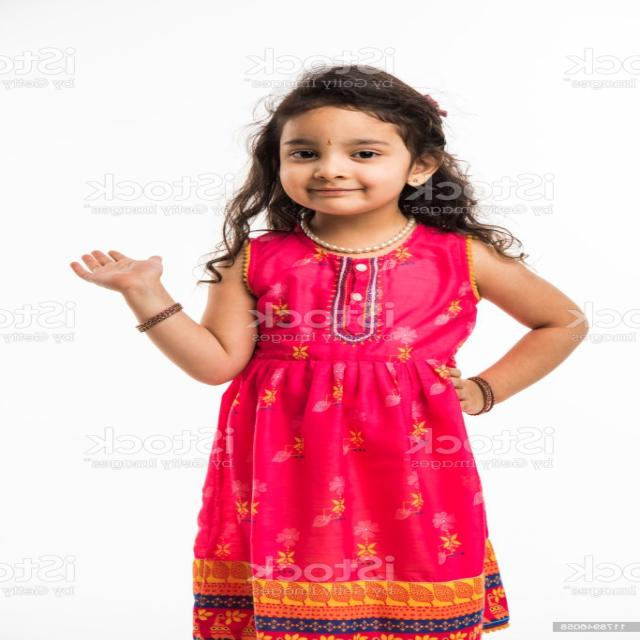child: (58, 59, 591, 636)
